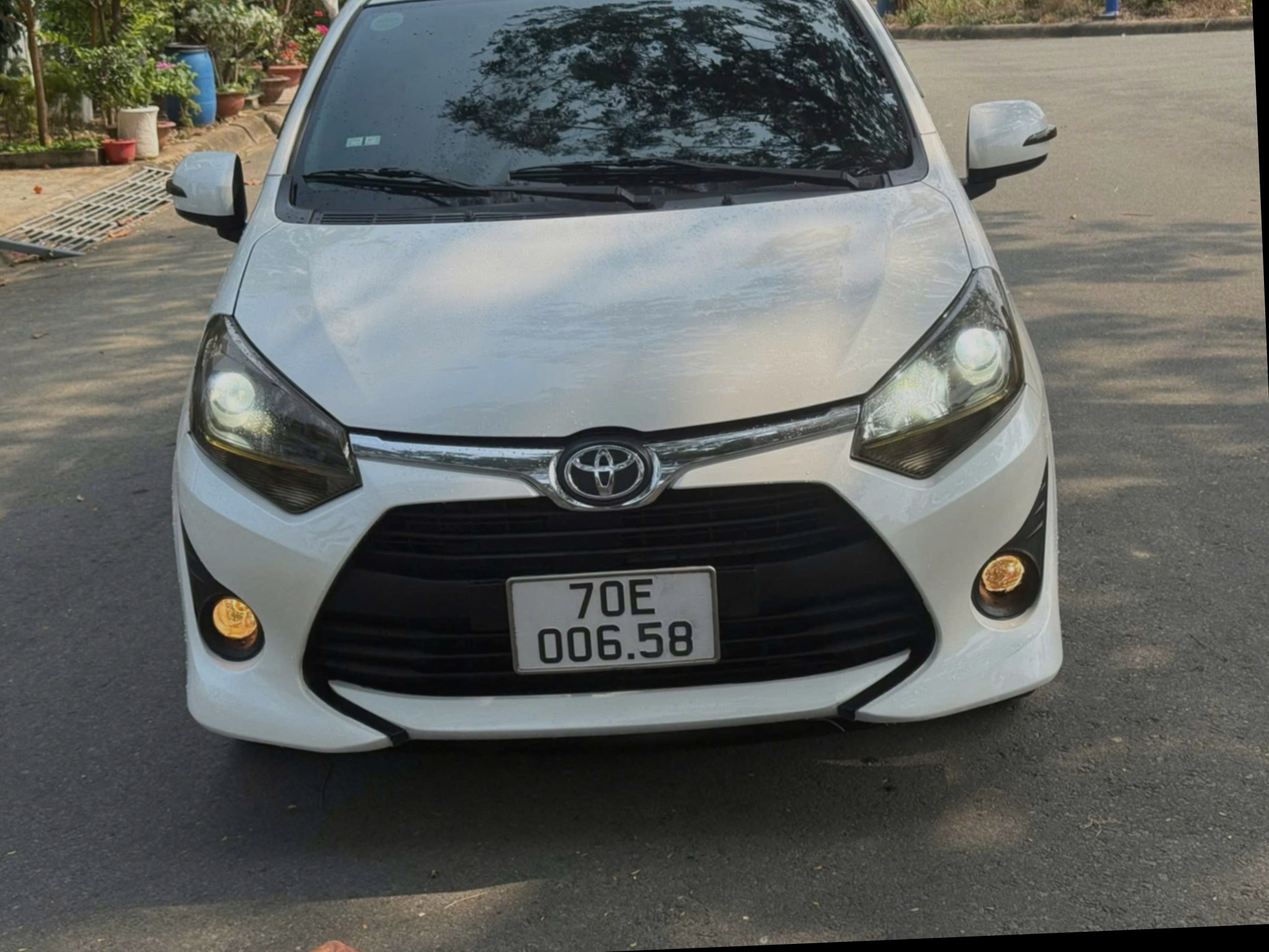Bien-so: (566, 601, 774, 709)
